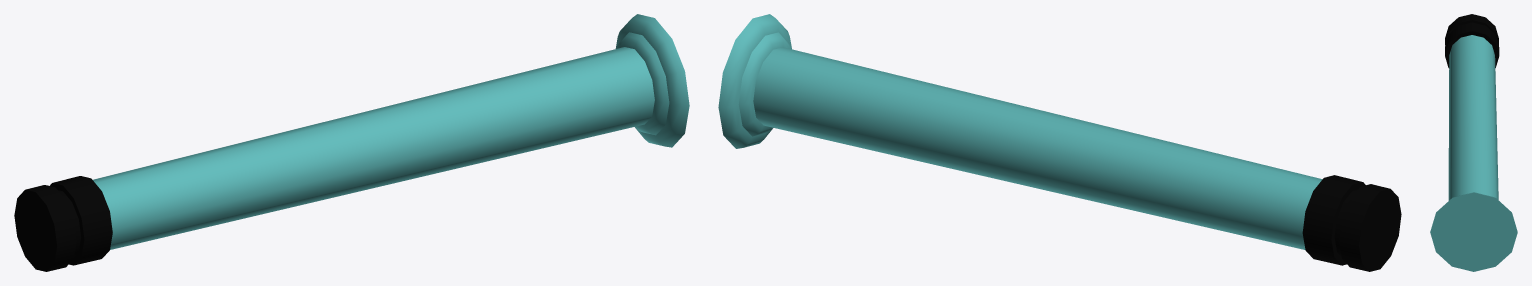
File: syringe-push.obj
3 views of the same model, side by side, from view 1: azimuth 30°, elevation 25°; view 2: azimuth 150°, elevation 25°; view 3: azimuth 270°, elevation 25° (orthographic). The views are drawn at different scales.
Visible parts, largest first — view 1: sy_Shape_1.001; view 2: sy_Shape_1.001; view 3: sy_Shape_1.001.
Part boxes in pixels (bbox=[...]): sy_Shape_1.001: bbox=[14, 14, 689, 271]; sy_Shape_1.001: bbox=[718, 14, 1401, 271]; sy_Shape_1.001: bbox=[1430, 14, 1517, 271].
Bounding box in the file's own units: 7.41 × 1.43 × 1.43.
